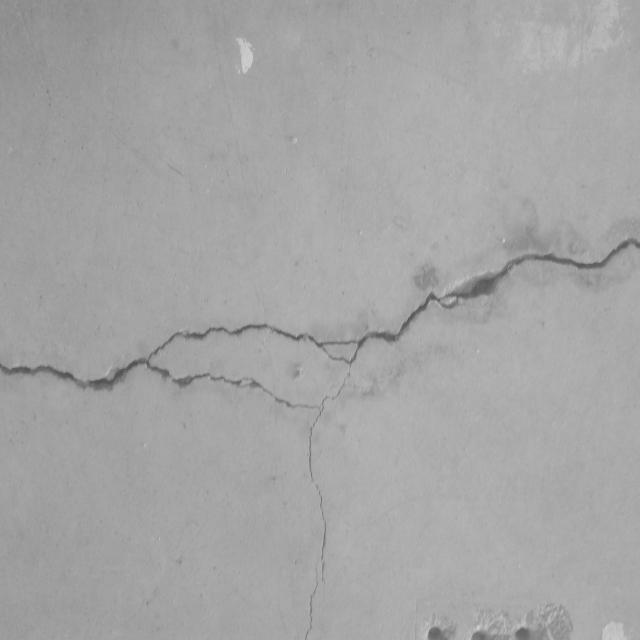SurfaceCrack: (1, 195, 640, 434)
